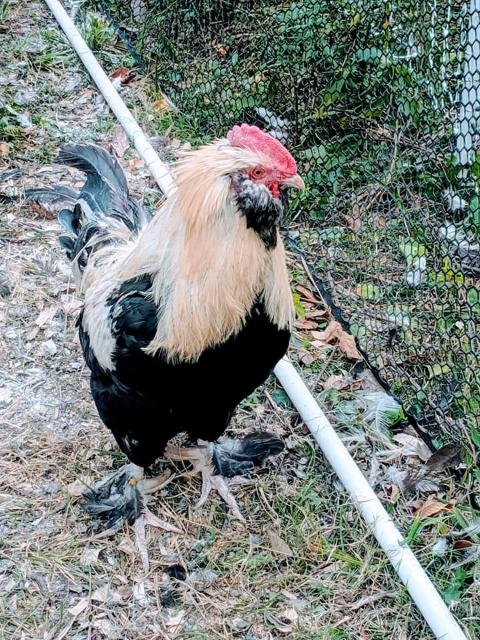Chicken: (47, 124, 307, 572)
